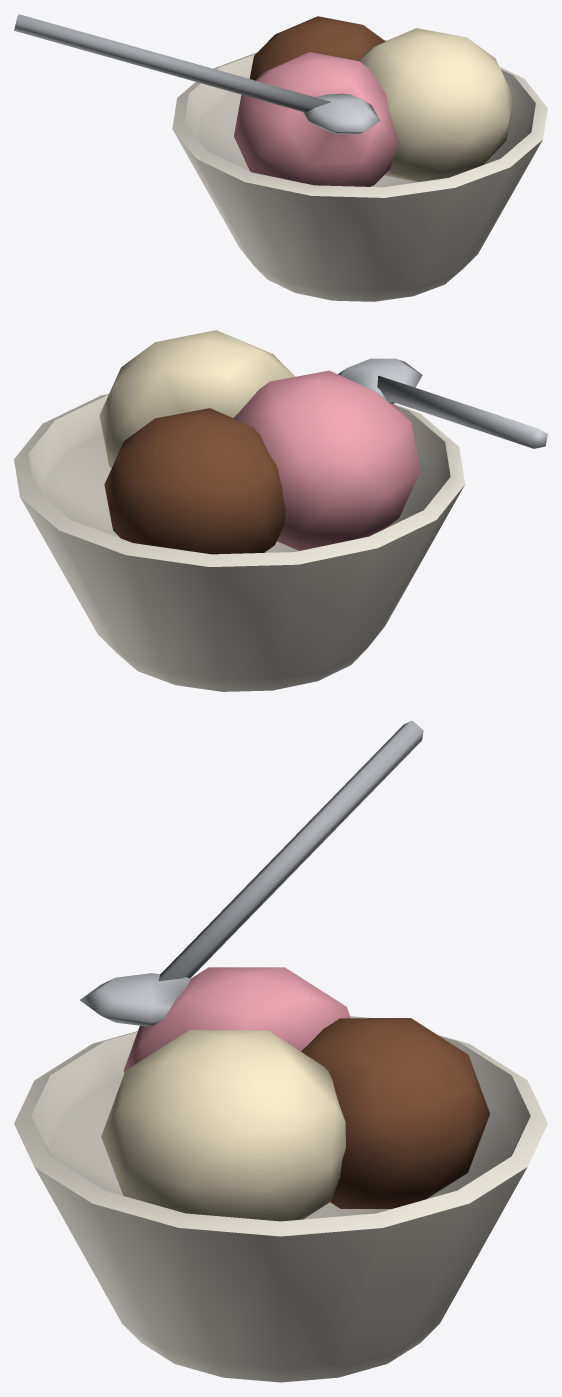
The model's file is iceCream.glb.
The picture shows the model from 3 angles, top to bottom: view 1: azimuth 30°, elevation 25°; view 2: azimuth 150°, elevation 25°; view 3: azimuth 270°, elevation 25°; orthographic projection. The views are drawn at different scales.
Visible parts, largest first — view 1: iceCream; view 2: iceCream; view 3: iceCream.
Boxes of the visible parts, x1,y1,x2,y2 form: iceCream: [14, 14, 547, 301]; iceCream: [14, 330, 547, 691]; iceCream: [14, 720, 547, 1382].
Bounding box in the file's own units: 0.1756 × 0.1014 × 0.124.
